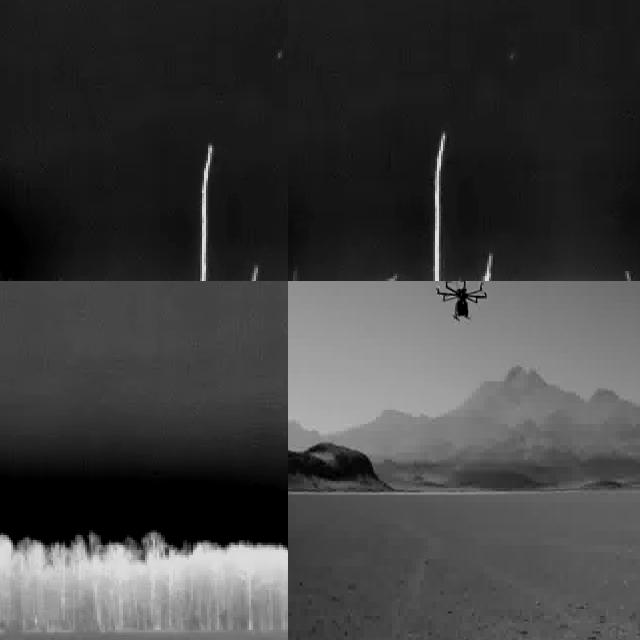0: (266, 41, 288, 74), (499, 45, 521, 77)
drone: (434, 281, 486, 323)
